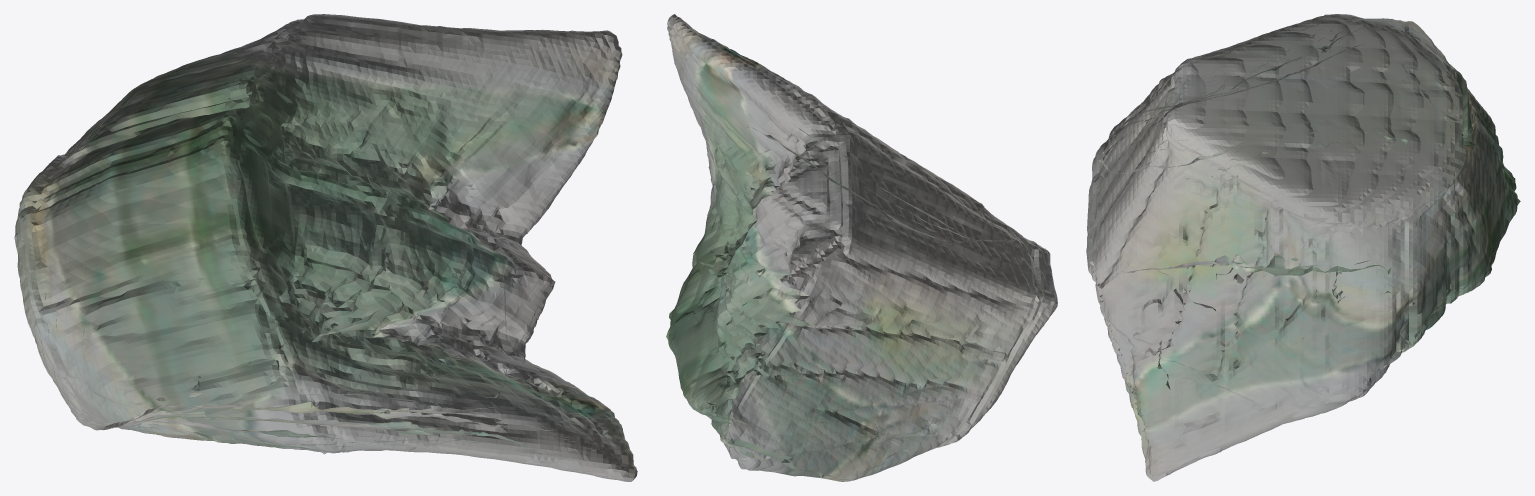
File: lumen.glb
3 renders of one model, left to right at view 1: azimuth 30°, elevation 25°; view 2: azimuth 150°, elevation 25°; view 3: azimuth 270°, elevation 25°, orthographic. The views are drawn at different scales.
Visible parts, largest first — view 1: world; view 2: world; view 3: world.
Boxes of the visible parts, x1,y1,x2,y2 form: world: (14,14,637,481); world: (666,14,1057,481); world: (1086,14,1520,481).
Bounding box in the file's own units: 1.03 × 0.9085 × 0.9462.
